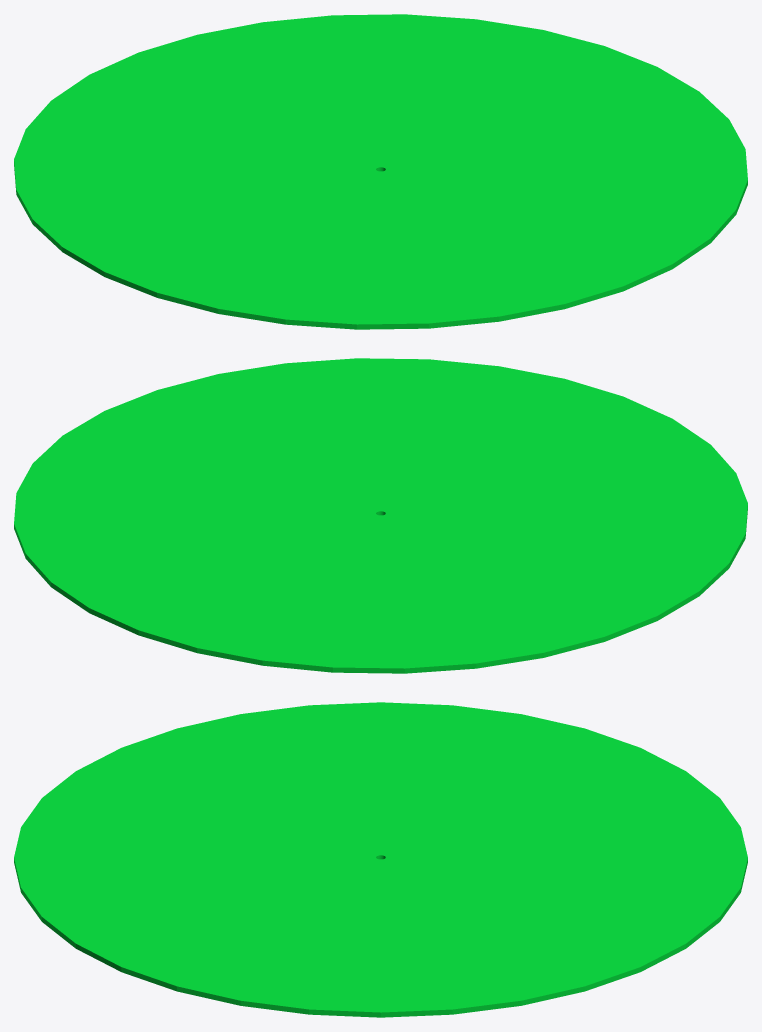
The model's file is TargetShapes.glb.
3 renders of one model, top to bottom at view 1: azimuth 30°, elevation 25°; view 2: azimuth 150°, elevation 25°; view 3: azimuth 270°, elevation 25°, orthographic.
Parts seen in each view (by area): view 1: Sphere; view 2: Sphere; view 3: Sphere.
Part boxes in pixels (<box>): Sphere: <box>14,14,747,329</box>; Sphere: <box>14,358,747,673</box>; Sphere: <box>14,702,747,1017</box>.
Bounding box in the file's own units: 2 × 0.0155 × 2.
